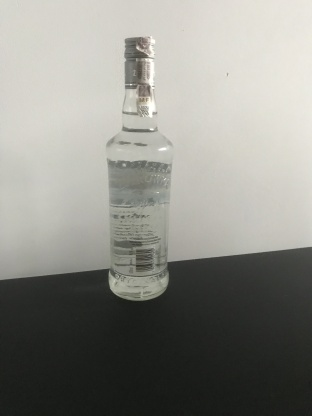nakretka: (122, 33, 156, 89)
